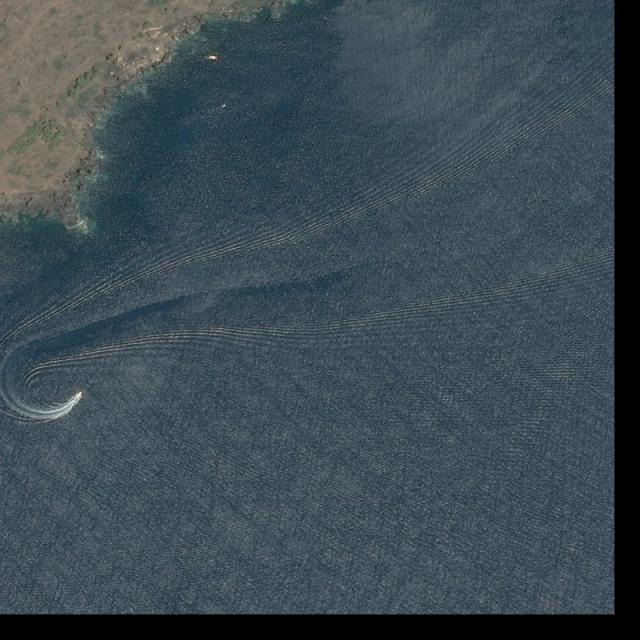ship: (205, 55, 218, 61), (75, 390, 83, 399), (222, 103, 227, 109)
